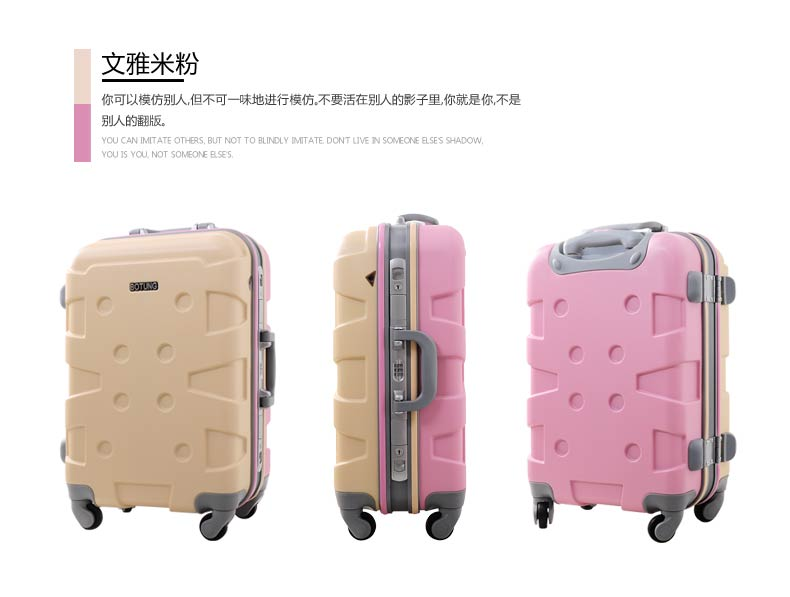luggage: (59, 220, 278, 543), (527, 222, 736, 544), (331, 213, 471, 540)
